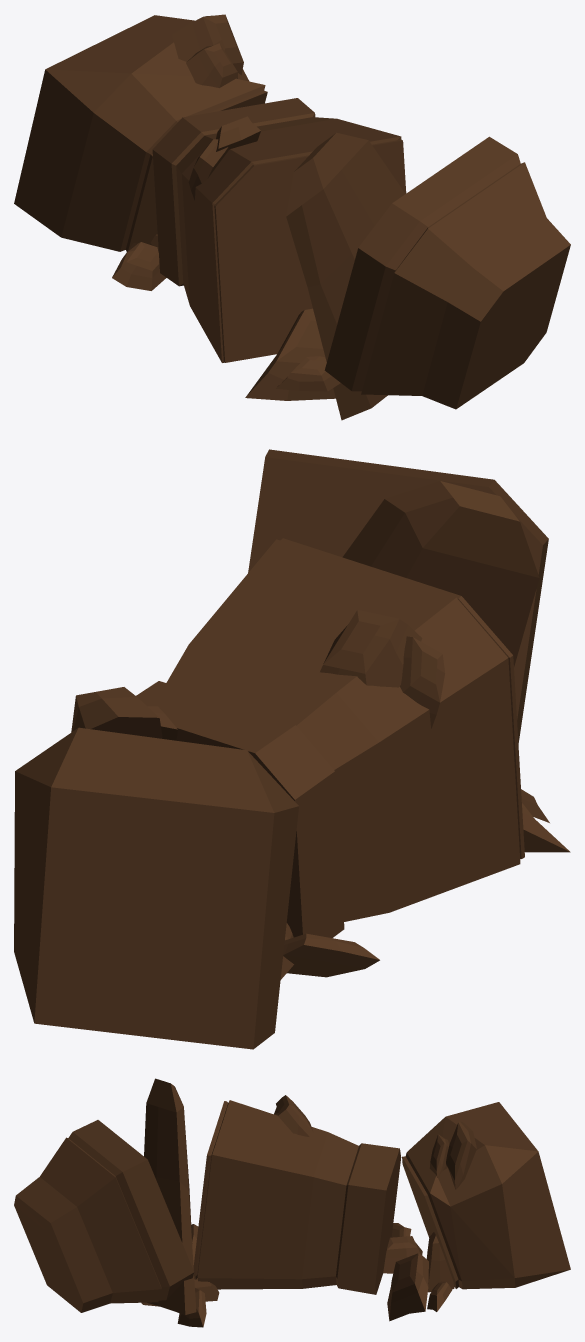
File: FallenPiller.fbx
3 renders of one model, top to bottom at view 1: azimuth 30°, elevation 25°; view 2: azimuth 150°, elevation 25°; view 3: azimuth 270°, elevation 25°, orthographic. The views are drawn at different scales.
Visible parts, largest first — view 1: Pillar.002, Cube.019, Cube.017, Cube.011, Cube.005, Cube.010, Cube.016, Cube.013, Cube.012; view 2: Pillar.002, Cube.019, Cube.013, Cube.011, Cube.005, Cube.012, Cube.017; view 3: Pillar.002, Cube.019, Cube.008, Cube.011, Cube.009, Cube.013, Cube.006, Cube.014, Cube.010, Cube.007, Cube.015.
Part boxes in pixels (left/top/right/bottom): Pillar.002: left=14, top=15, right=570, bottom=409; Cube.019: left=286, top=132, right=405, bottom=420; Cube.017: left=245, top=308, right=335, bottom=400; Cube.011: left=172, top=14, right=243, bottom=75; Cube.005: left=112, top=242, right=166, bottom=290; Cube.010: left=186, top=43, right=237, bottom=87; Cube.016: left=276, top=356, right=340, bottom=391; Cube.013: left=216, top=116, right=260, bottom=151; Cube.012: left=188, top=139, right=228, bottom=200; Pillar.002: left=14, top=449, right=548, bottom=1049; Cube.019: left=342, top=481, right=539, bottom=666; Cube.013: left=320, top=610, right=422, bottom=687; Cube.011: left=71, top=687, right=162, bottom=738; Cube.005: left=283, top=933, right=379, bottom=977; Cube.012: left=400, top=636, right=445, bottom=728; Cube.017: left=522, top=803, right=570, bottom=852; Pillar.002: left=14, top=1100, right=570, bottom=1312; Cube.019: left=141, top=1078, right=196, bottom=1314; Cube.008: left=387, top=1253, right=428, bottom=1321; Cube.011: left=446, top=1121, right=476, bottom=1189; Cube.009: left=426, top=1232, right=454, bottom=1292; Cube.013: left=276, top=1095, right=314, bottom=1137; Cube.006: left=383, top=1236, right=422, bottom=1273; Cube.014: left=177, top=1287, right=206, bottom=1327; Cube.010: left=429, top=1134, right=449, bottom=1177; Cube.007: left=427, top=1281, right=451, bottom=1311; Cube.015: left=193, top=1265, right=219, bottom=1301.
Size of the model in its own units: 608 by 628 by 1435.
